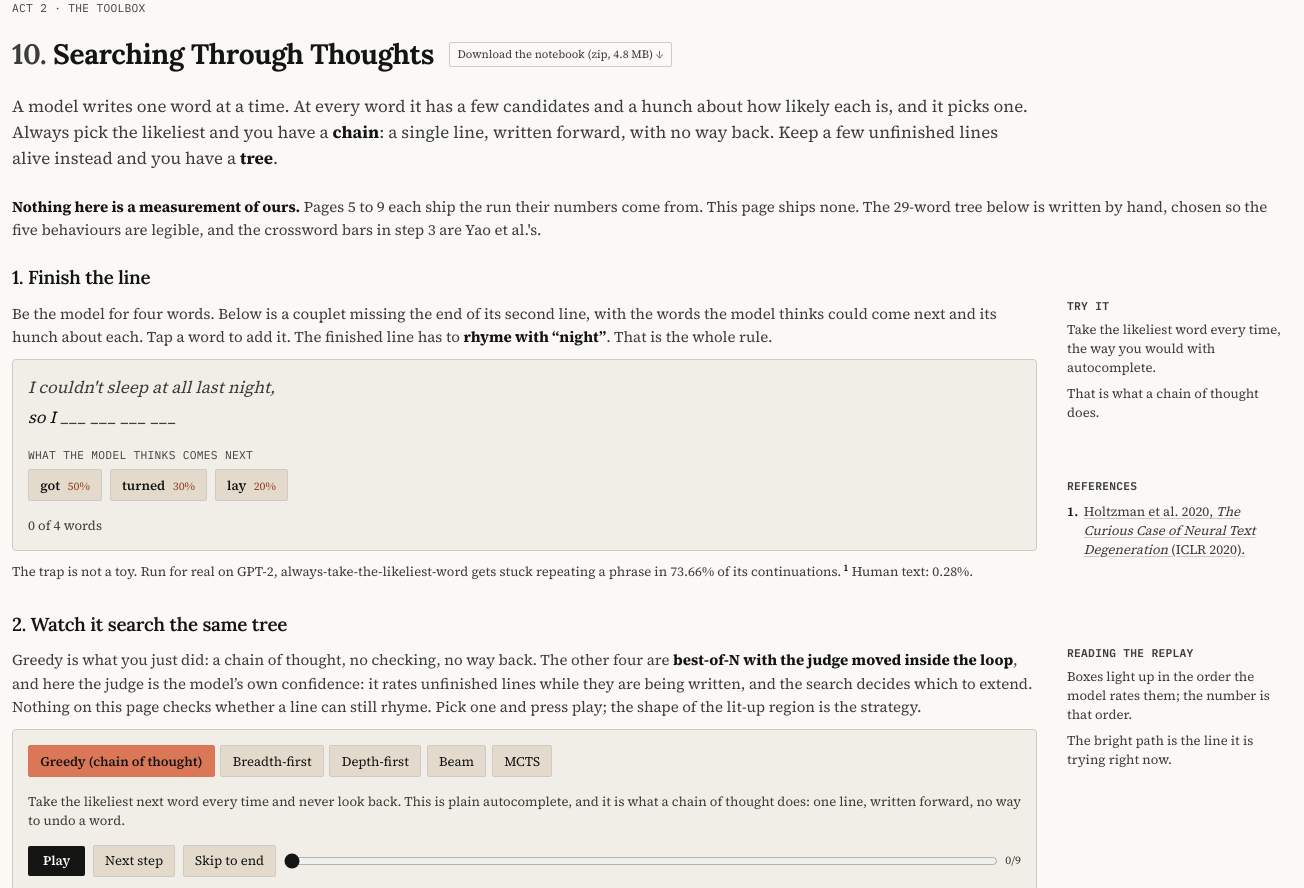
Test case: Page 10 — step 2, the replay › narrates the depth-first backtrack at the moment it happens
Click the button "Depth-first" at (375, 761), box [330,745,421,777]
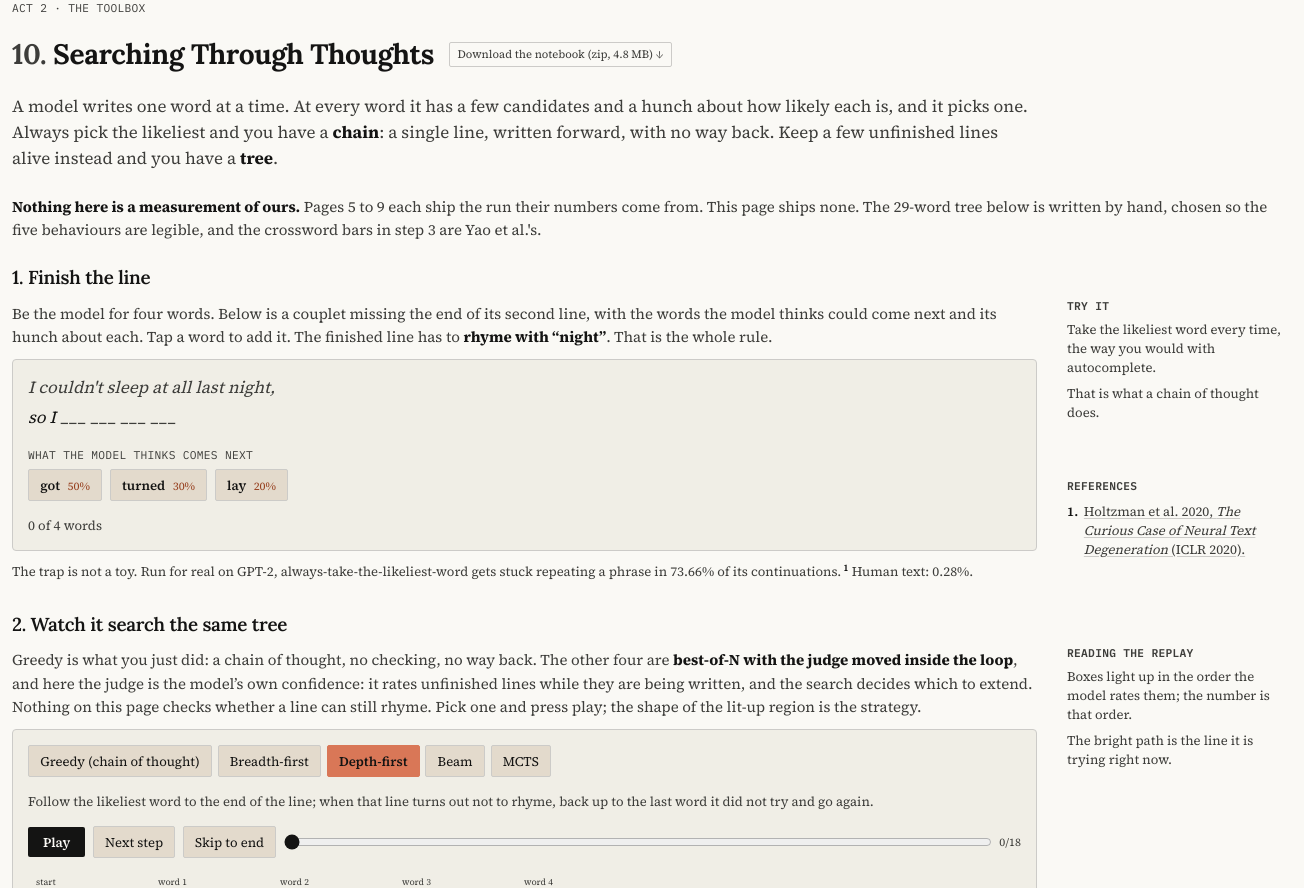
Set the slider named "search step" to "14" at (830, 842), box [284,834,992,850]
(page scrolled)
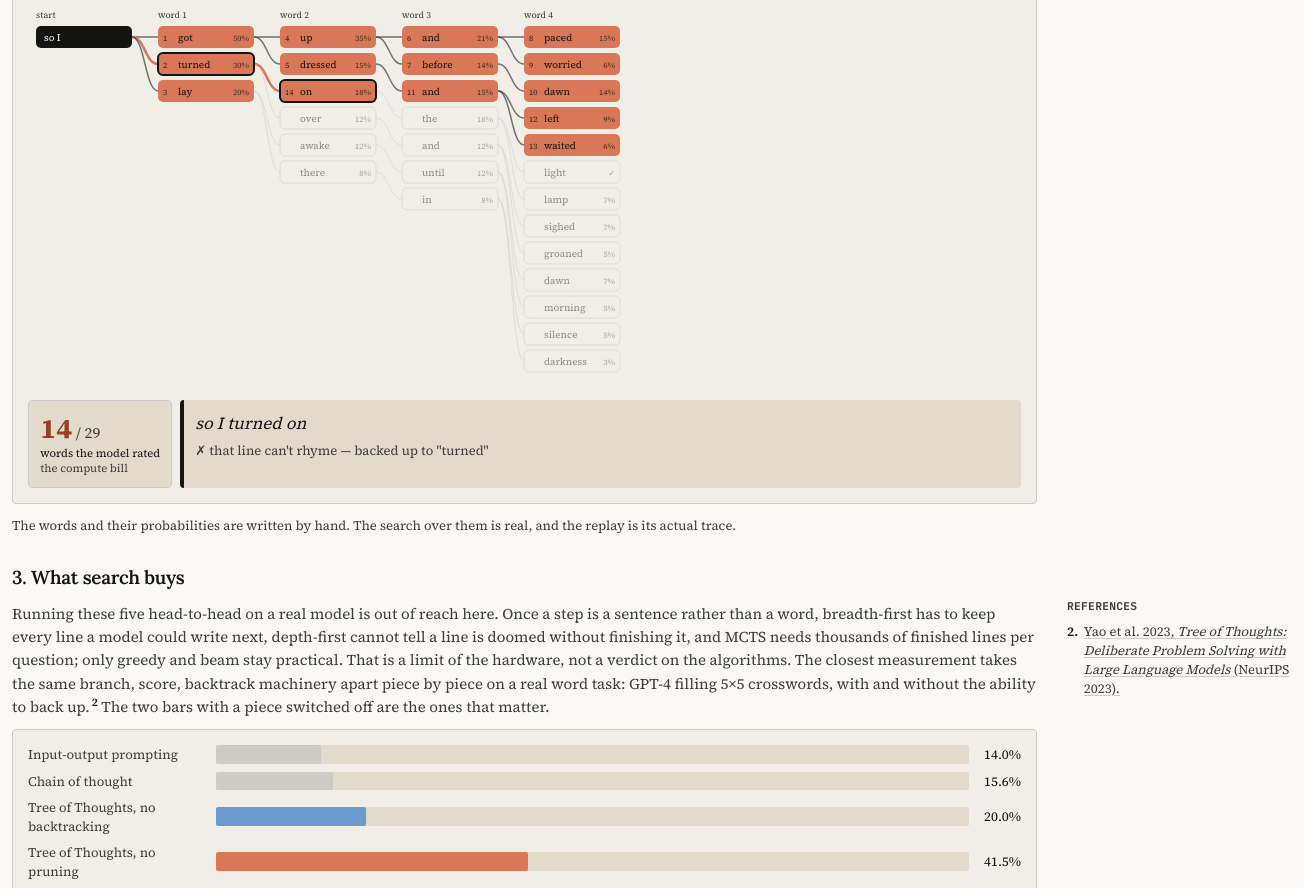
Expected: the text "✗ that line can't rhyme — backed up to \"turned\"" is shown, [195,441,489,459]
